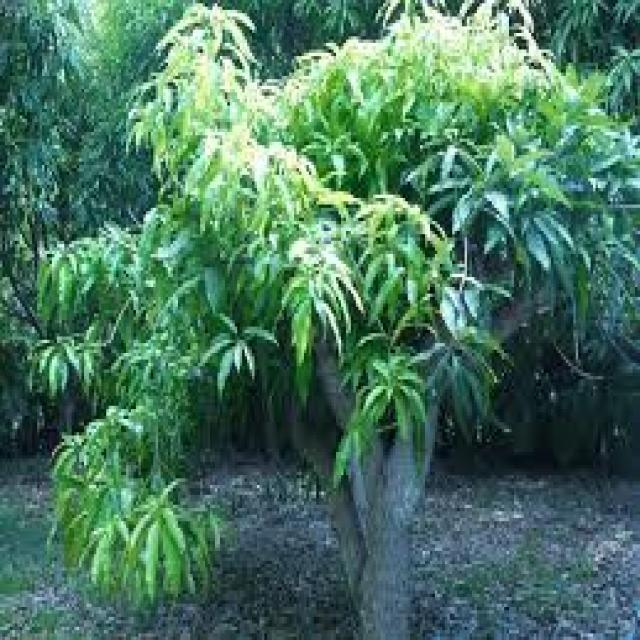Tree: (118, 41, 504, 632)
